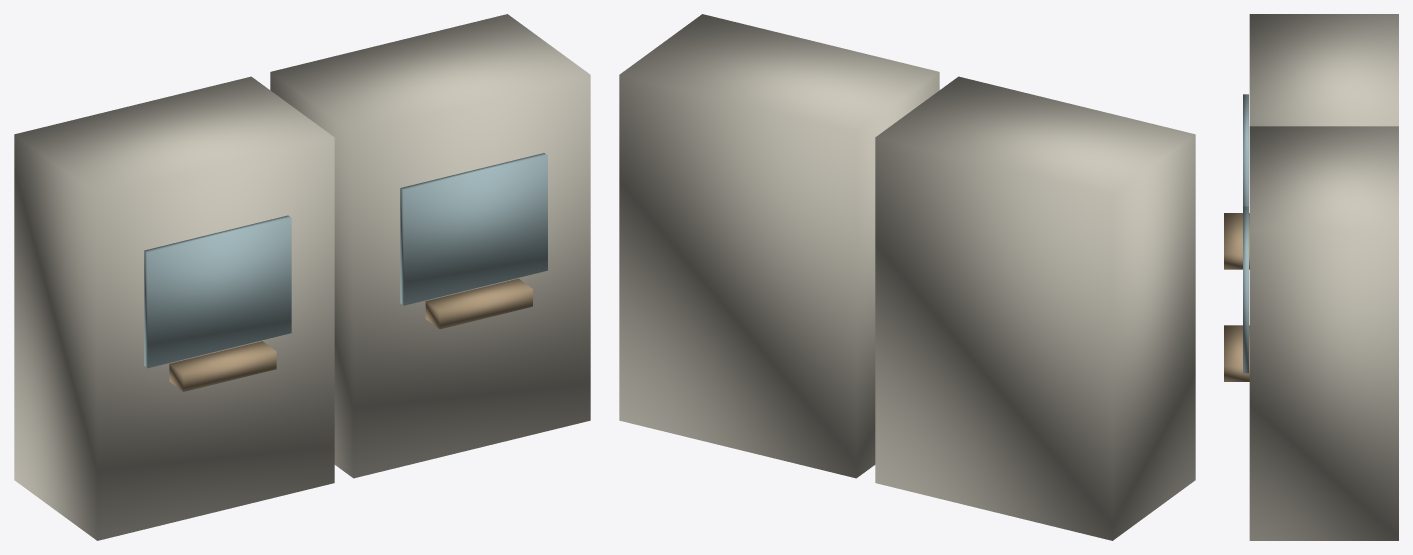
The model's file is ticket_booth__cluster.glb.
3 renders of one model, left to right at view 1: azimuth 30°, elevation 25°; view 2: azimuth 150°, elevation 25°; view 3: azimuth 270°, elevation 25°, orthographic. The views are drawn at different scales.
Parts seen in each view (by area): view 1: world; view 2: world; view 3: world.
Boxes of the visible parts, bbox=[...] form: world: bbox=[14, 14, 590, 540]; world: bbox=[619, 14, 1195, 540]; world: bbox=[1224, 14, 1398, 540].
Size of the model in its own units: 2.91 by 1.95 by 0.995.
